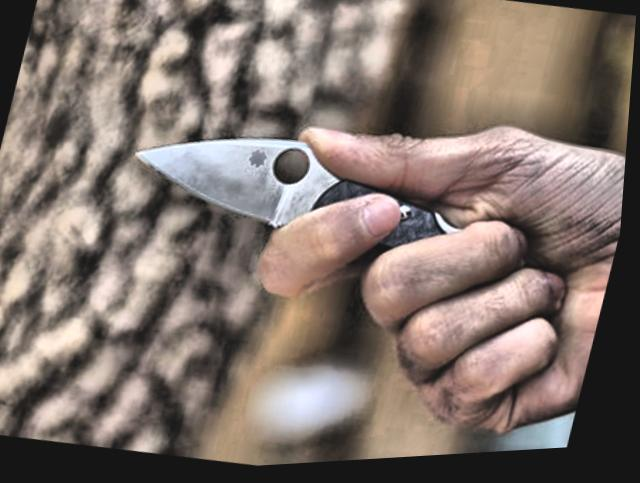knife: (90, 73, 563, 378)
